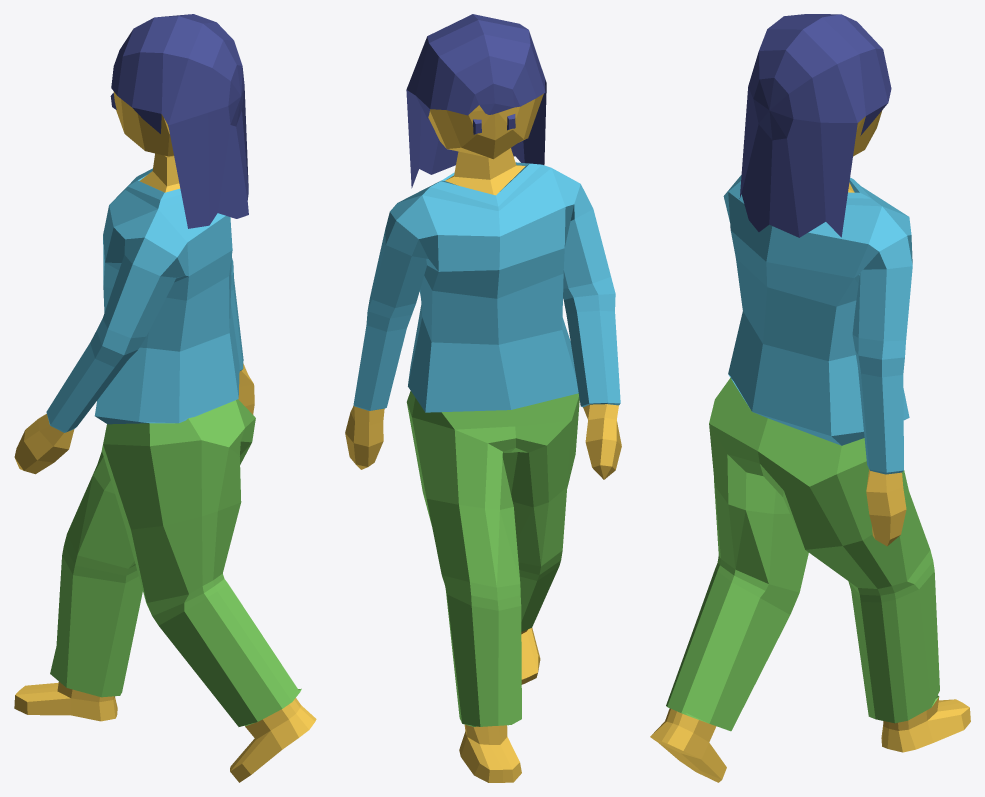
Rendered from 108_歩く(Woman).glb.
3 renders of one model, left to right at view 1: azimuth 30°, elevation 25°; view 2: azimuth 150°, elevation 25°; view 3: azimuth 270°, elevation 25°, orthographic. The views are drawn at different scales.
Visible parts, largest first — view 1: 立方体028_2, 立方体028_4, 立方体028, 立方体028_1, 立方体028_3; view 2: 立方体028_4, 立方体028_2, 立方体028, 立方体028_1, 立方体028_3; view 3: 立方体028_2, 立方体028_4, 立方体028, 立方体028_1, 立方体028_3.
Boxes of the visible parts, x1=… form: 立方体028_2: x1=50, y1=399, x2=301, y2=726; 立方体028_4: x1=46, y1=168, x2=243, y2=432; 立方体028: x1=110, y1=14, x2=248, y2=228; 立方体028_1: x1=14, y1=91, x2=316, y2=782; 立方体028_3: x1=14, y1=363, x2=254, y2=474; 立方体028_4: x1=353, y1=162, x2=620, y2=412; 立方体028_2: x1=406, y1=391, x2=579, y2=726; 立方体028: x1=406, y1=14, x2=546, y2=188; 立方体028_1: x1=428, y1=93, x2=543, y2=782; 立方体028_3: x1=345, y1=404, x2=621, y2=479; 立方体028_2: x1=666, y1=377, x2=939, y2=731; 立方体028_4: x1=723, y1=175, x2=912, y2=474; 立方体028: x1=739, y1=14, x2=891, y2=237; 立方体028_1: x1=650, y1=110, x2=970, y2=782; 立方体028_3: x1=866, y1=469, x2=906, y2=546.
Size of the model in its own units: 0.7485 by 2.04 by 0.7796.
